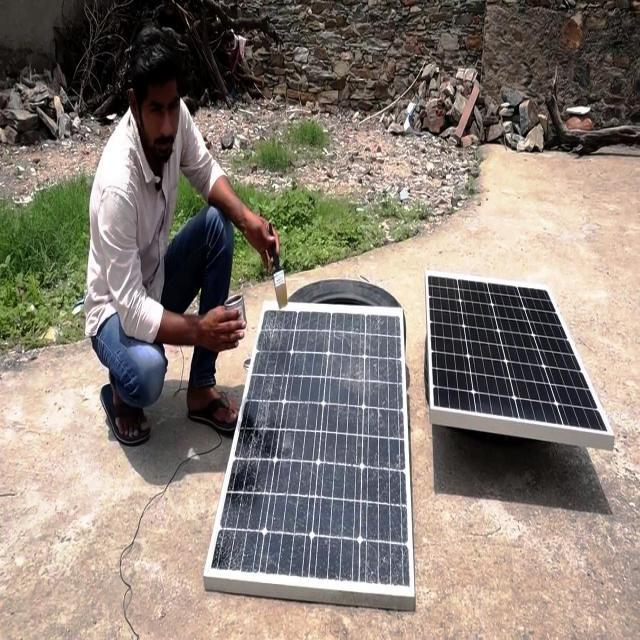faulty: (210, 303, 416, 597)
no faulty: (426, 268, 610, 434)
